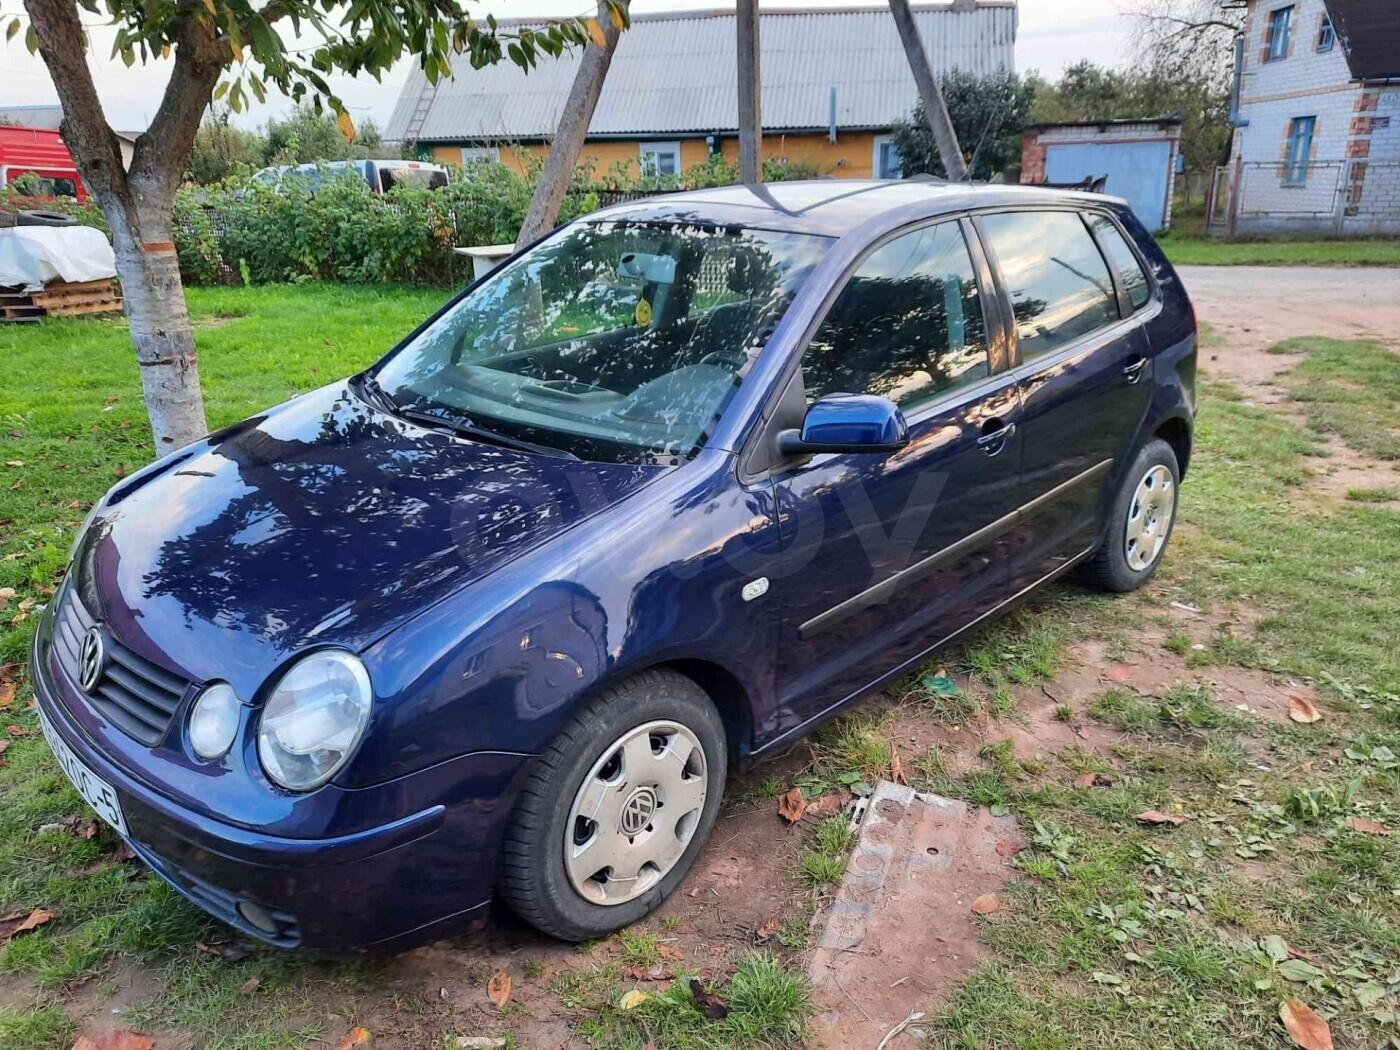BMW_E34_1992_3600: (20, 163, 1203, 964)
